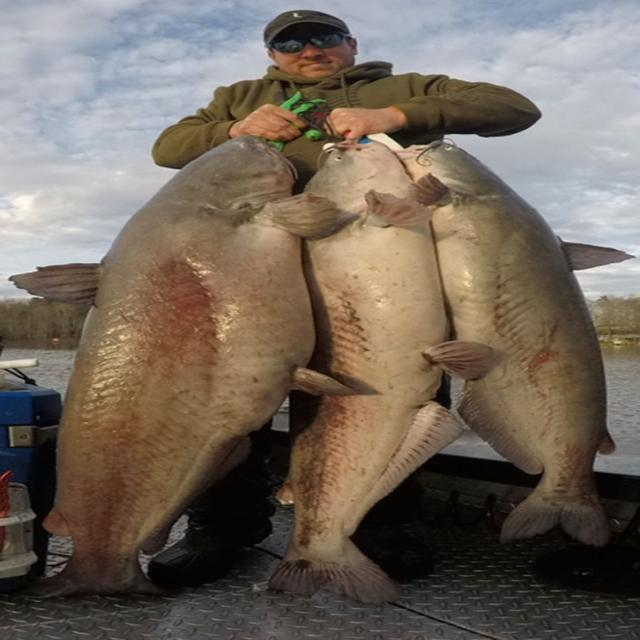Catfish - Blue: (30, 136, 336, 598), (270, 141, 493, 602), (397, 141, 613, 545)
